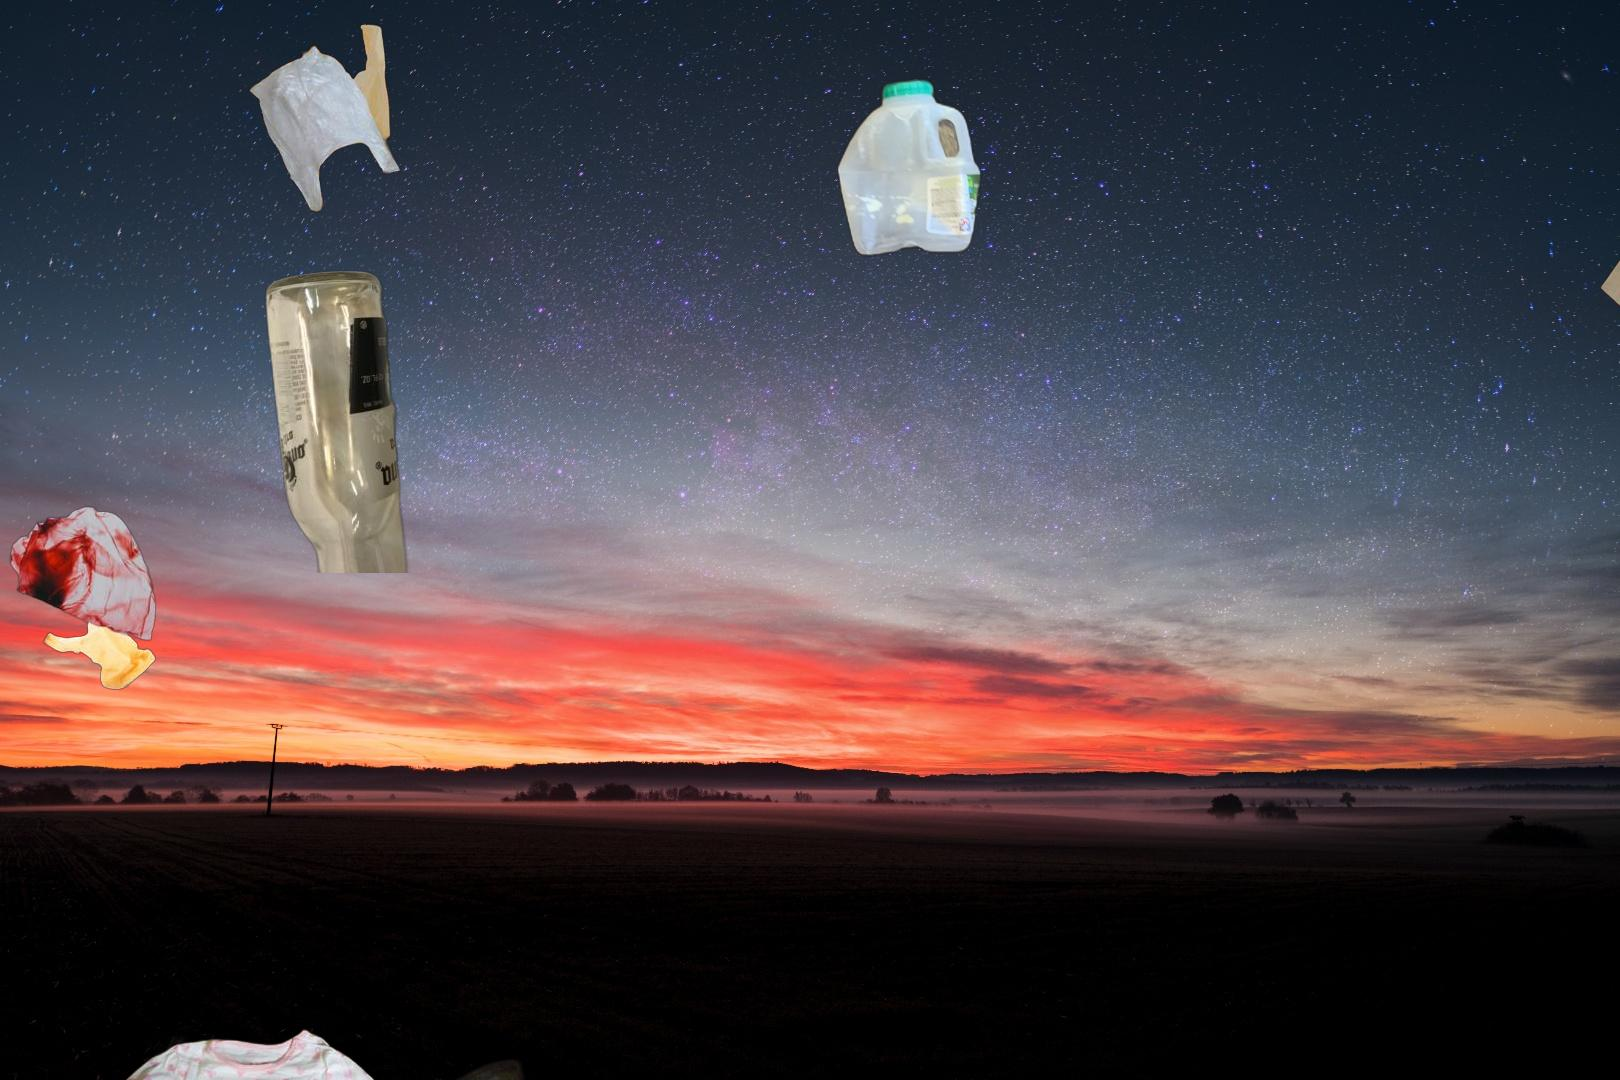clothes: (33, 1035, 644, 1080), (59, 1025, 459, 1080)
glass: (262, 268, 413, 573)
paper-bag: (1600, 236, 1620, 358)
plastic-bag: (248, 20, 404, 215), (7, 504, 159, 692)
plastic-bottles: (833, 74, 985, 262)
